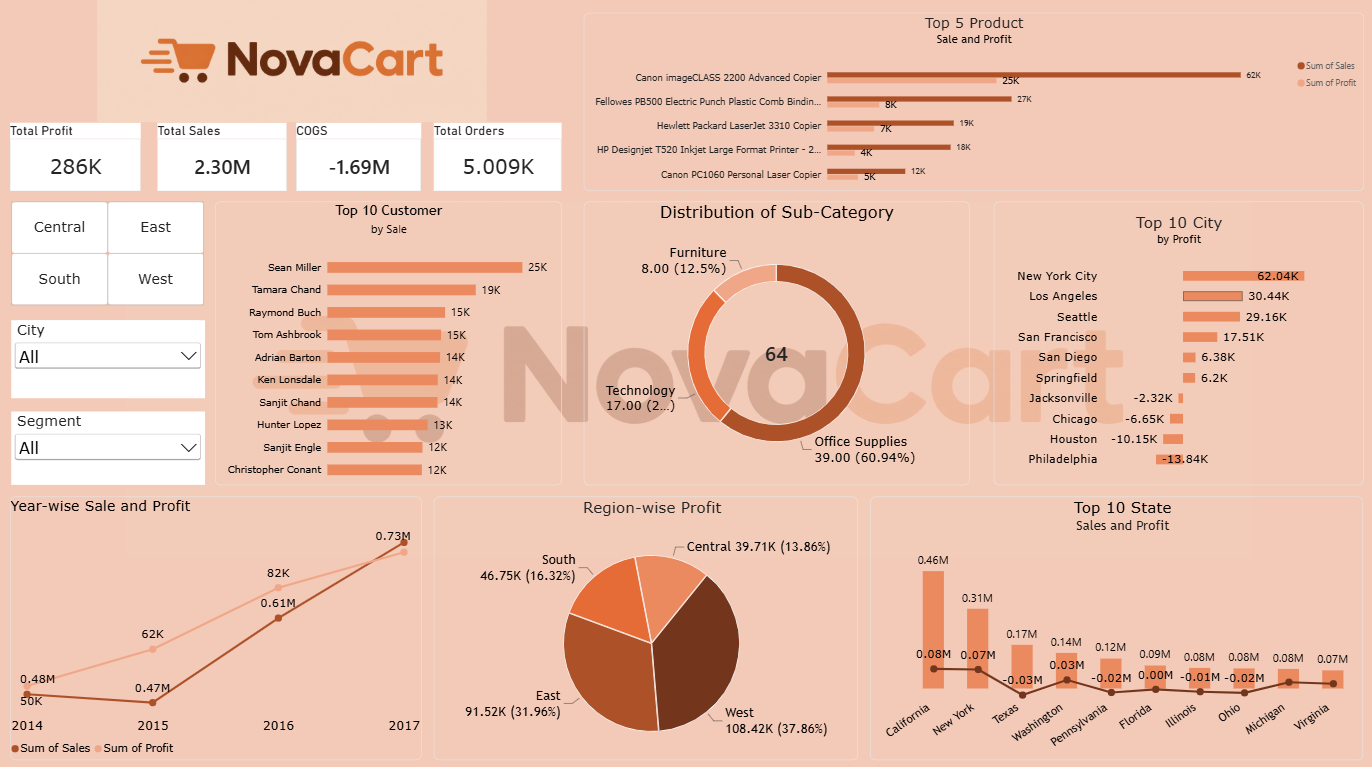

This screenshot's page, from the dashboard's own definition file:
{"tool":"powerbi","page":{"name":"Page 1","canvas":[1920,1080],"ordinal":0},"visuals":[{"type":"image","box":[0,281.9,1921.1,497],"z":0},{"type":"barChart","title":"Top 10 City","fields":{"Category":["Table_Orders.City"],"Y":["Sum(Table_Orders.Profit)"]},"box":[1386,282,516,396],"z":1000},{"type":"lineStackedColumnComboChart","title":"Top 10 State","fields":{"Category":["Table_Orders.State"],"Y":["Sum(Table_Orders.Sales)"],"Y2":["Sum(Table_Orders.Profit)"]},"box":[1214,694,688,368],"z":2000},{"type":"donutChart","title":"Distribution of Sub-Category","fields":{"Category":["Table_Orders.Category"],"Y":["CountNonNull(Table_Orders.Segment)"]},"box":[814,282,538,396],"z":3000},{"type":"pieChart","title":"Region-wise Profit","fields":{"Category":["Table_Orders.Region"],"Y":["Sum(Table_Orders.Profit)"]},"box":[606,694,592,368],"z":4000},{"type":"cardVisual","title":"Total Profit","fields":{"Data":["Sum(Table_Orders.Profit)"]},"box":[14,172,182,96],"z":5000},{"type":"cardVisual","title":"Total Sales","fields":{"Data":["Sum(Table_Orders.Sales)"]},"box":[220,172,180,96],"z":6000},{"type":"slicer","fields":{"Values":["Table_Orders.City"]},"box":[14.9,448.6,270,108.4],"z":7000},{"type":"lineChart","title":"Year-wise Sale and Profit","fields":{"Category":["Table_Orders.Year sales"],"Y":["Sum(Table_Orders.Sales)"],"Y2":["Sum(Table_Orders.Profit)"]},"box":[14,694,574,368],"z":8000},{"type":"barChart","title":"Top 10 Customer","fields":{"Category":["Table_Orders.Customer Name"],"Y":["Sum(Table_Orders.Sales)"]},"box":[300,282,484,396],"z":9000},{"type":"advancedSlicerVisual","fields":{"Values":["Table_Orders.Region"]},"box":[14.9,282.8,270,146.7],"z":10000},{"type":"clusteredBarChart","title":"Top 5 Product ","fields":{"Category":["Table_Orders.Product Name"],"Y":["Sum(Table_Orders.Sales)","Sum(Table_Orders.Profit)"]},"box":[814.3,19.1,1088.5,248.7],"z":11000},{"type":"cardVisual","title":"COGS","fields":{"Data":["Sum(Table_Orders.COGS)"]},"box":[414,172,174,96],"z":12000},{"type":"cardVisual","title":"Total Orders","fields":{"Data":["Count(Table_Orders.Order ID)"]},"box":[606,172,178,96],"z":13000},{"type":"slicer","fields":{"Values":["Table_Orders.Segment"]},"box":[14.9,576.1,270,102],"z":14000},{"type":"image","box":[0,0,814.8,172],"z":15000}]}

Visuals, with their boxes in screenshot pixels (x1, y1, x2, y2), scaled from the page's 1920x1080 canvas onto the 1372x767 screenshot:
image: [0, 200, 1371, 553]
"Top 10 City" barChart: [990, 200, 1359, 482]
"Top 10 State" lineStackedColumnComboChart: [868, 493, 1359, 754]
"Distribution of Sub-Category" donutChart: [582, 200, 966, 482]
"Region-wise Profit" pieChart: [433, 493, 856, 754]
"Total Profit" cardVisual: [10, 122, 140, 190]
"Total Sales" cardVisual: [157, 122, 286, 190]
slicer - Table_Orders.City: [11, 319, 204, 396]
"Year-wise Sale and Profit" lineChart: [10, 493, 420, 754]
"Top 10 Customer" barChart: [214, 200, 560, 482]
advancedSlicerVisual - Table_Orders.Region: [11, 201, 204, 305]
"Top 5 Product " clusteredBarChart: [582, 14, 1360, 190]
"COGS" cardVisual: [296, 122, 420, 190]
"Total Orders" cardVisual: [433, 122, 560, 190]
slicer - Table_Orders.Segment: [11, 409, 204, 482]
image: [0, 0, 582, 122]
